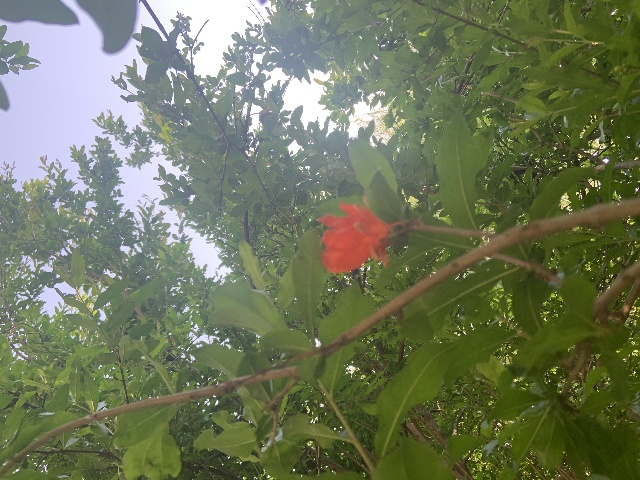flower: (317, 201, 399, 273)
